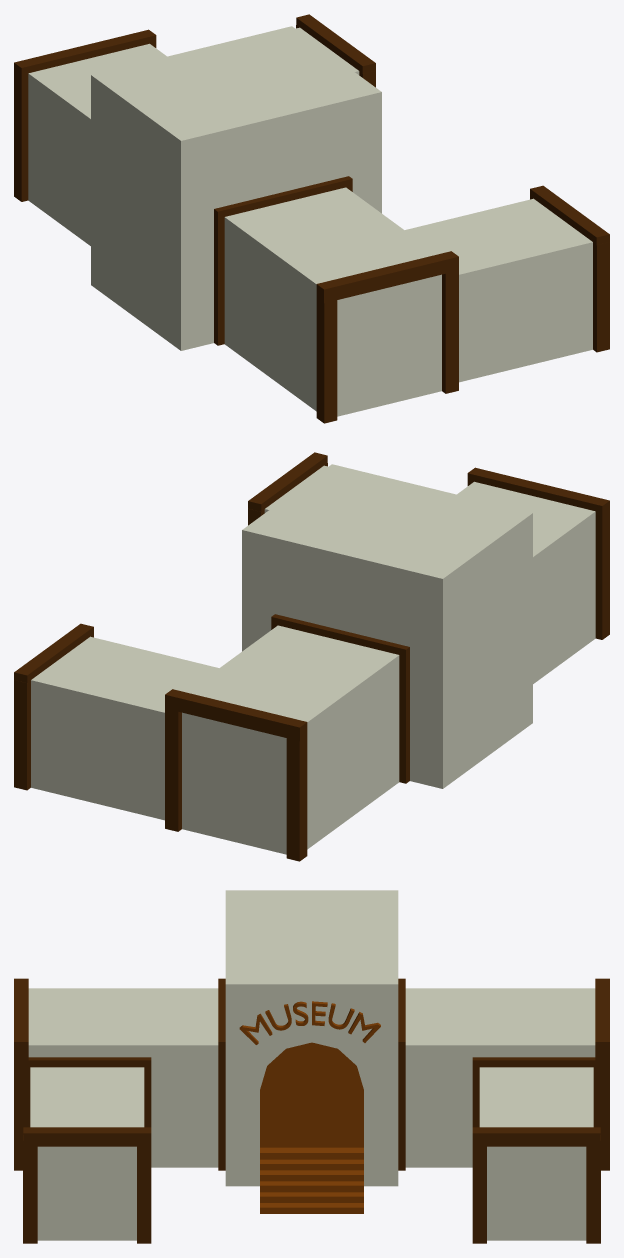
Rendered from Museum.fbx.
3 views of the same model, one above another, from view 1: azimuth 30°, elevation 25°; view 2: azimuth 150°, elevation 25°; view 3: azimuth 270°, elevation 25° (orthographic). The views are drawn at different scales.
Parts seen in each view (by area): view 1: Museum; view 2: Museum; view 3: Museum.
Part boxes in pixels (x1,y1,x2,y2): Museum: (14, 14, 609, 423); Museum: (14, 452, 609, 861); Museum: (14, 890, 609, 1243).
Bounding box in the file's own units: 806 × 500 × 1338.
